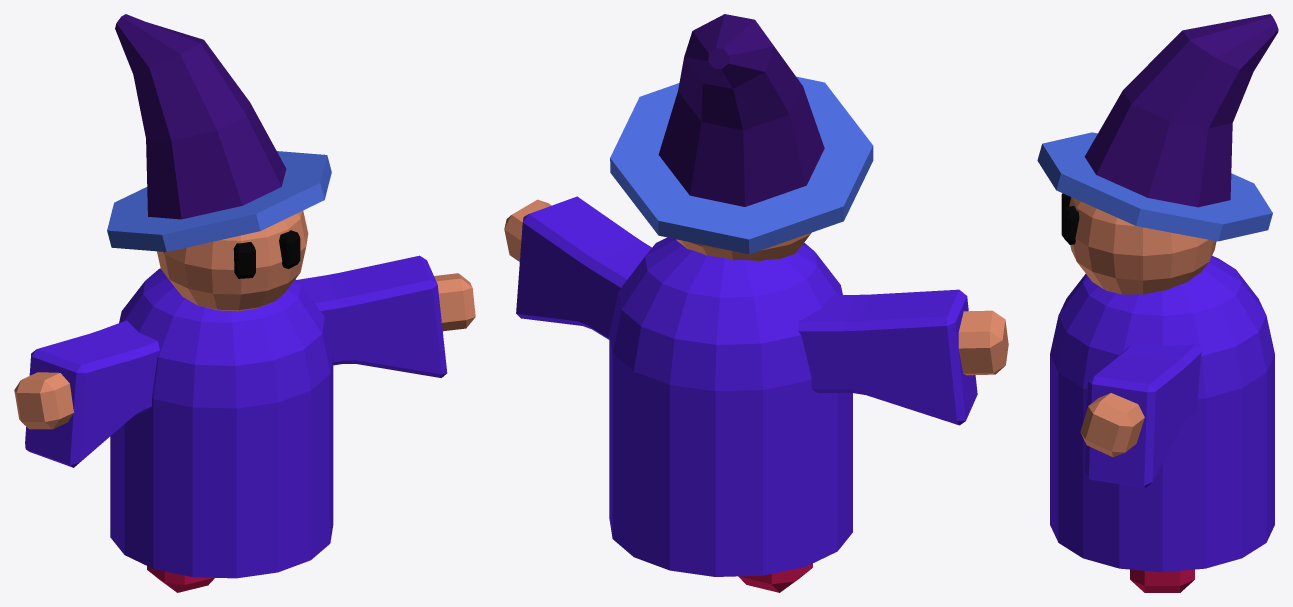
The model's file is mem.glb.
3 views of the same model, side by side, from view 1: azimuth 30°, elevation 25°; view 2: azimuth 150°, elevation 25°; view 3: azimuth 270°, elevation 25° (orthographic). The views are drawn at different scales.
Parts seen in each view (by area): view 1: Cube; view 2: Cube; view 3: Cube.
Boxes of the visible parts, left/top/right/bottom form: Cube: left=14, top=14, right=475, bottom=592; Cube: left=504, top=14, right=1008, bottom=592; Cube: left=1037, top=14, right=1278, bottom=592.
Bounding box in the file's own units: 4.66 × 5.2 × 2.14.
